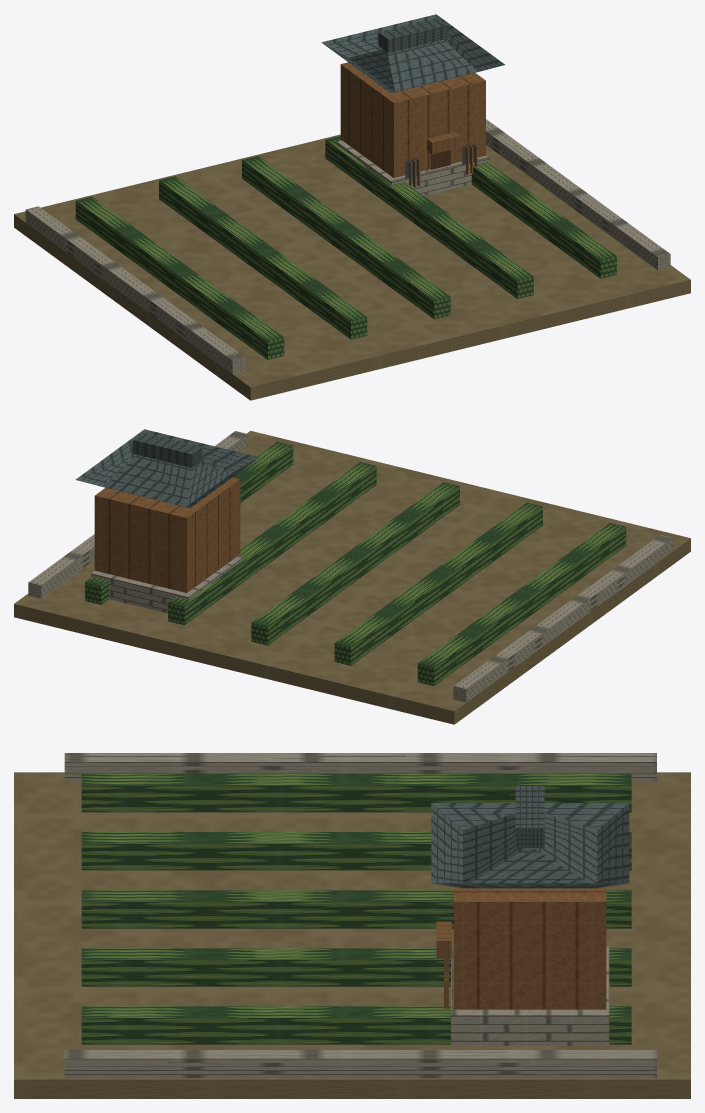
File: domestic-FARM-2-lod1.glb
3 views of the same model, one above another, from view 1: azimuth 30°, elevation 25°; view 2: azimuth 150°, elevation 25°; view 3: azimuth 270°, elevation 25° (orthographic). The views are drawn at different scales.
Size of the model in its own units: 0.86 by 0.292 by 0.8.
Materials: 1 (1 with a texture image).
